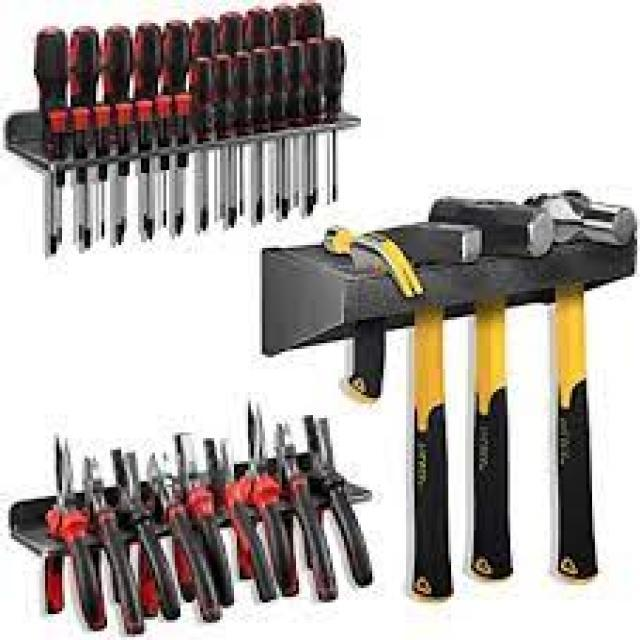hammer: (430, 184, 557, 586), (524, 179, 634, 594), (376, 212, 486, 604), (314, 216, 422, 418)
screwdriver: (210, 52, 244, 231), (34, 107, 70, 274), (186, 52, 217, 236), (308, 38, 336, 208), (248, 46, 274, 222), (66, 105, 95, 261), (269, 43, 295, 216), (323, 30, 348, 209), (130, 100, 158, 250), (111, 101, 137, 248), (168, 91, 193, 238), (236, 51, 256, 230), (292, 35, 312, 214), (152, 92, 175, 236), (90, 105, 110, 244)
